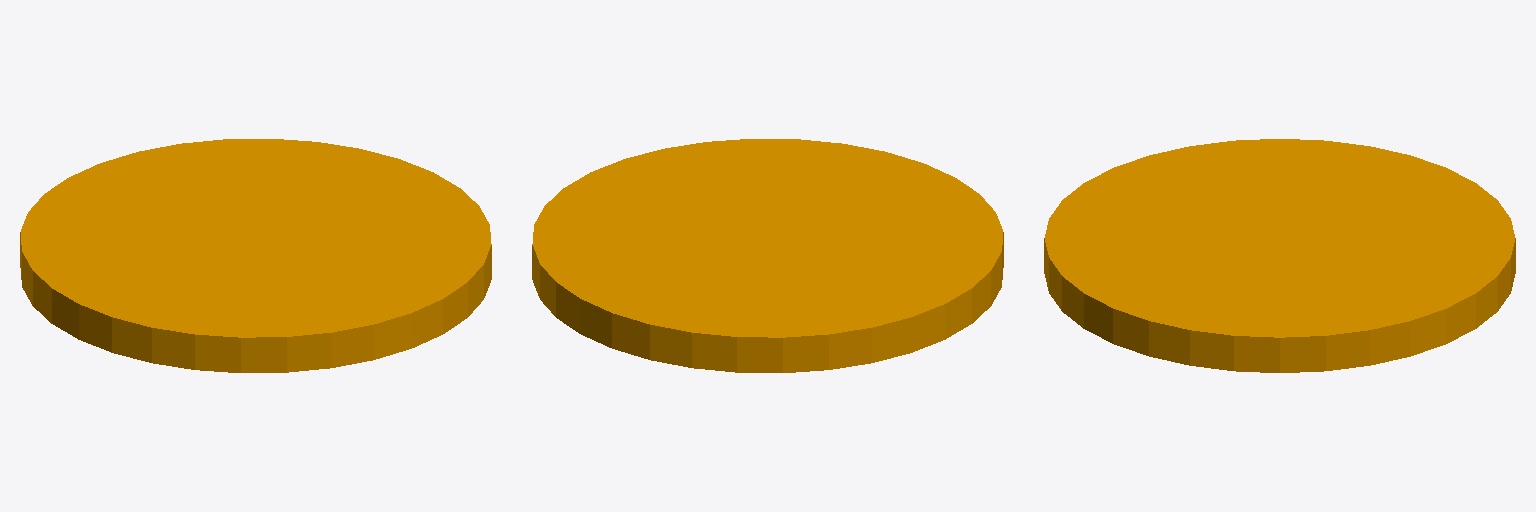
The robot description file, URDF, robot "disk":
<?xml version="1.0" ?>
<!-- =================================================================================== -->
<!-- |    This document was autogenerated by xacro from kuka_lwr_arm.urdf.xacro        | -->
<!-- |    EDITING THIS FILE BY HAND IS NOT RECOMMENDED                                 | -->
<!-- =================================================================================== -->
<robot name="disk">
 <link name="body">
  <inertial>
    <mass value="1"/>
    <inertia ixx="0.1" ixy="0" ixz="0" iyy="0.1" iyz="0" izz="0.1"/>
  </inertial>

  <visual>
    <origin rpy="0 0 0" xyz="0 0 0.11"/>
    <geometry>
      <cylinder length="0.05" radius="0.3"/>
    </geometry>
  </visual>
  <collision>
    <origin rpy="0 0 0" xyz="0 0 0.11"/>
    <geometry>
      <cylinder length="0.05" radius="0.3"/>
    </geometry>
  </collision>
 </link>

  <klampt package_root="../../.." default_acc_max="4">
  </klampt>

</robot>

--- What the picture shows (computed from the rendered views, not written in the file) ---
Views: 3 orthographic renders of the robot side by side, from view 1: azimuth 30°, elevation 25°; view 2: azimuth 150°, elevation 25°; view 3: azimuth 270°, elevation 25°.
Robot: disk — 1 links, 0 joints (none); root link body; default pose: all joints at 0.
Links seen in each view (by area): view 1: body; view 2: body; view 3: body.
Boxes of the visible links, x1,y1,x2,y2 form: body: (20, 139, 491, 372); body: (532, 139, 1003, 372); body: (1044, 139, 1515, 372).
Size in the robot's own frame: 0.6 by 0.6 by 0.05 metres.
Geometry: primitives only (box / cylinder / sphere), no mesh files.